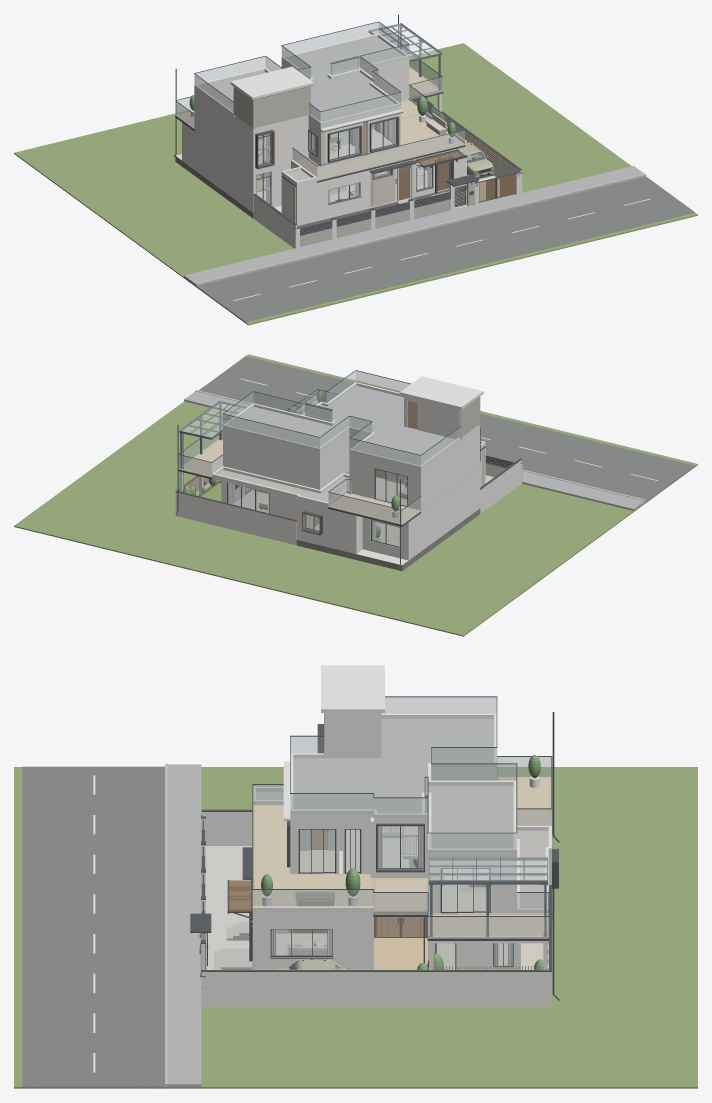
The picture shows the model from 3 angles, top to bottom: view 1: azimuth 30°, elevation 25°; view 2: azimuth 150°, elevation 25°; view 3: azimuth 270°, elevation 25°; orthographic projection. The views are drawn at different scales.
Parts seen in each view (by area): view 1: world, custom-roof-finish-1, roof-guard-0, u-terrace-front/stone-deck, u-terrace-front-guard-0, custom-roof-edge-1, exterior-boundary-cladding-0.00, wall-e7d02531362a30d683/0, south-stair-core-1-headhouse-lid, wall-abc2f67261d10b6db3/0, wall-38f1ee24cbdae6e4df/0, wall-c3bd146f244a69c480/0 (+13 smaller); view 2: world, custom-roof-finish-1, roof-guard-0, wall-695b57e705ed7dc3f3/0, custom-roof-edge-1, wall-e7d02531362a30d683/0, south-stair-core-1-headhouse-lid, u-bedroom-balcony-guard-0, wall-abc2f67261d10b6db3/0, custom-roof-edge-0, south-stair-core-1-roof-wall-right/0, plinth-band (+16 smaller); view 3: world, custom-roof-finish-1, roof-guard-0, u-terrace-front/stone-deck, custom-roof-edge-1, front-tiled-court-1, south-stair-core-1-headhouse-lid, u-terrace-north-guard-0, u-terrace-north/stone-deck, south-stair-core-1-roof-wall-front/0, custom-roof-finish-0, u-terrace-front-guard-0 (+20 smaller).
Part boxes in pixels (x1,y1,x2,y2): world: [14, 14, 697, 325]; custom-roof-finish-1: [200, 37, 402, 121]; roof-guard-0: [194, 22, 409, 124]; u-terrace-front/stone-deck: [308, 115, 462, 178]; u-terrace-front-guard-0: [317, 103, 464, 179]; custom-roof-edge-1: [194, 33, 409, 125]; exterior-boundary-cladding-0.00: [300, 199, 450, 246]; wall-e7d02531362a30d683/0: [182, 122, 223, 190]; south-stair-core-1-headhouse-lid: [230, 66, 314, 99]; wall-abc2f67261d10b6db3/0: [217, 107, 255, 171]; wall-38f1ee24cbdae6e4df/0: [223, 152, 255, 212]; wall-c3bd146f244a69c480/0: [365, 60, 409, 101]; world: [14, 354, 697, 636]; custom-roof-finish-1: [229, 386, 455, 465]; roof-guard-0: [222, 371, 443, 468]; wall-695b57e705ed7dc3f3/0: [223, 430, 301, 484]; custom-roof-edge-1: [223, 382, 460, 469]; wall-e7d02531362a30d683/0: [406, 492, 449, 560]; south-stair-core-1-headhouse-lid: [400, 376, 483, 409]; u-bedroom-balcony-guard-0: [328, 479, 420, 523]; wall-abc2f67261d10b6db3/0: [443, 429, 479, 493]; custom-roof-edge-0: [212, 401, 485, 506]; south-stair-core-1-roof-wall-right/0: [404, 399, 460, 438]; plinth-band: [296, 508, 480, 570]; world: [14, 712, 697, 1088]; custom-roof-finish-1: [293, 718, 513, 848]; roof-guard-0: [290, 697, 516, 852]; u-terrace-front/stone-deck: [255, 806, 371, 906]; custom-roof-edge-1: [290, 713, 516, 853]; front-tiled-court-1: [205, 846, 252, 951]; south-stair-core-1-headhouse-lid: [321, 665, 384, 712]; u-terrace-north-guard-0: [428, 893, 548, 936]; u-terrace-north/stone-deck: [428, 914, 548, 937]; south-stair-core-1-roof-wall-front/0: [326, 713, 379, 758]; custom-roof-finish-0: [256, 791, 548, 908]; u-terrace-front-guard-0: [252, 890, 373, 906].
Bounding box in the file's own units: 36.29 × 9.58 × 32.76.
